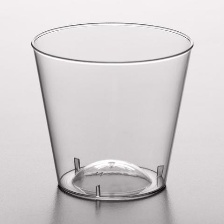glass: (26, 20, 198, 206)
